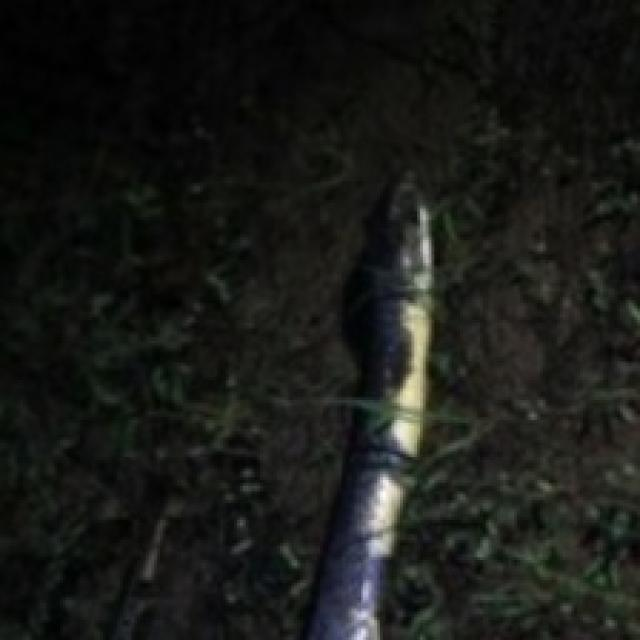king cobra: (303, 183, 431, 637)
